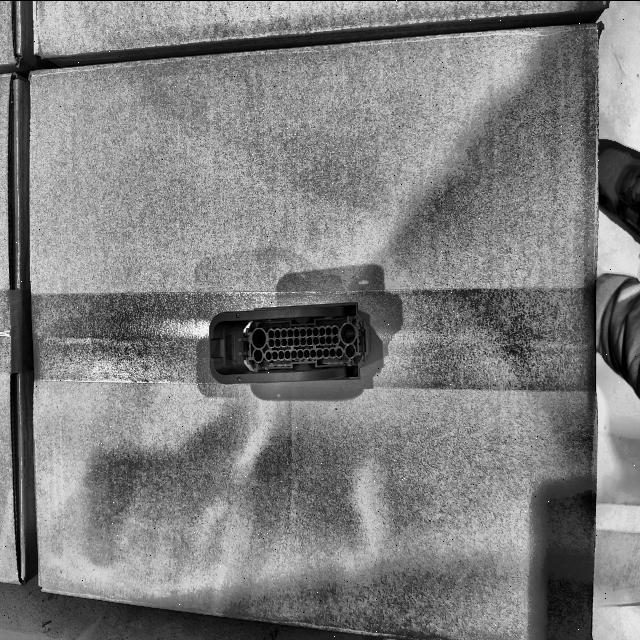P38: (209, 301, 371, 383)
